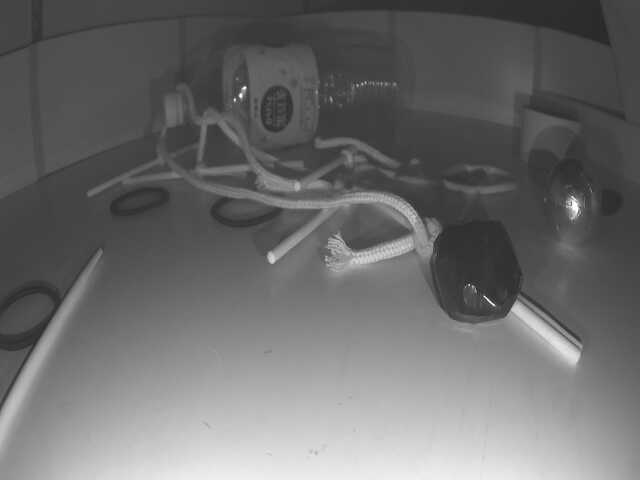Dead: (430, 224, 522, 328)
Live: (545, 159, 600, 246)
Point: (533, 91, 640, 182)
